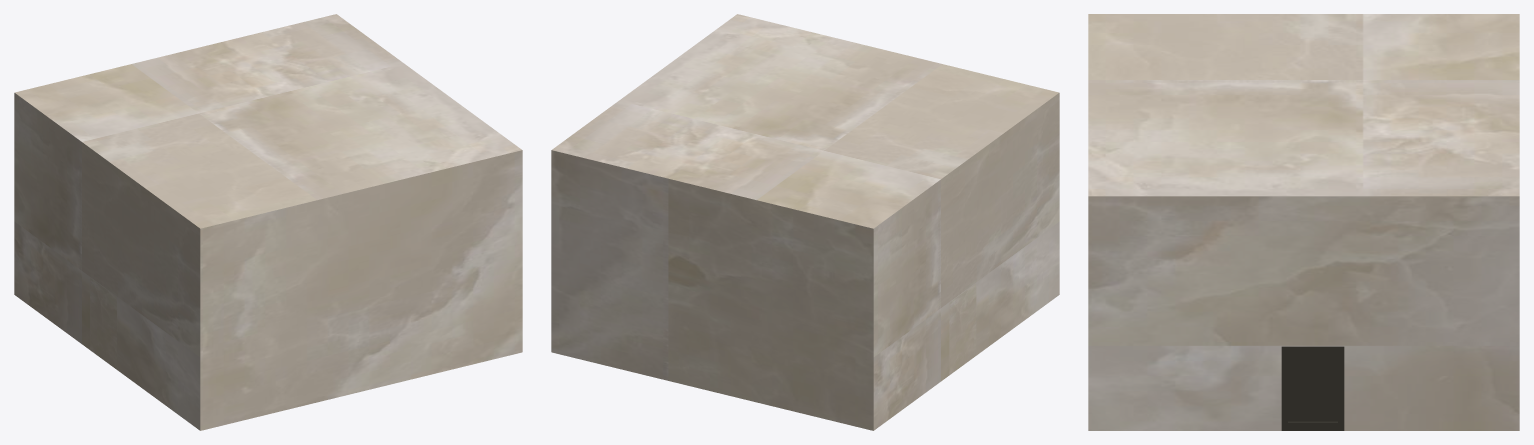
The model's file is Small Room 6.fbx.
The picture shows the model from 3 angles, left to right: view 1: azimuth 30°, elevation 25°; view 2: azimuth 150°, elevation 25°; view 3: azimuth 270°, elevation 25°; orthographic projection. The views are drawn at different scales.
Visible parts, largest first — view 1: Cube.037; view 2: Cube.037; view 3: Cube.037, Cube.075.
Part boxes in pixels (bbox=[...]): Cube.037: bbox=[14, 14, 522, 430]; Cube.037: bbox=[551, 14, 1059, 430]; Cube.037: bbox=[1088, 14, 1519, 430]; Cube.075: bbox=[1281, 346, 1344, 430].
Bounding box in the file's own units: 1000 × 600 × 1000.
Materials: 2 (1 with a texture image).
